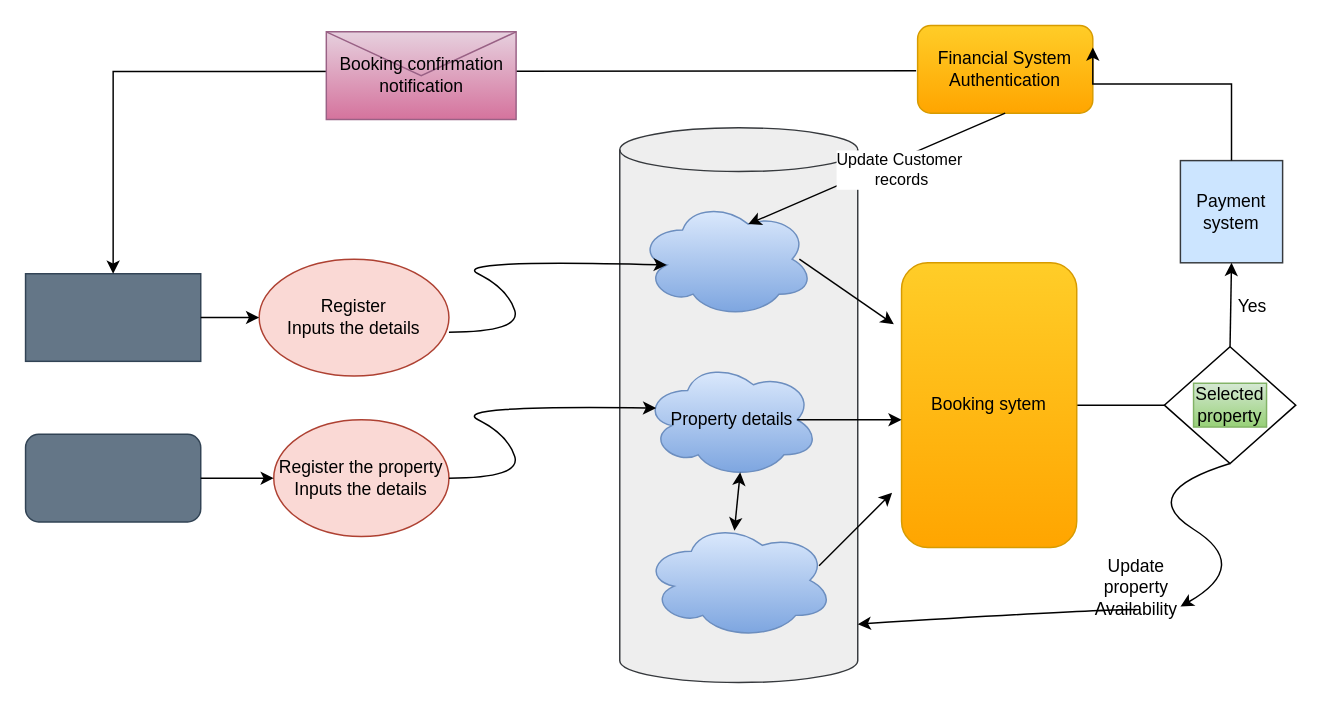
The diagram is 1321 pixels wide and 708 high, and some of its shapes have lost their labels. Each missing label, with the centre of its shape:
Property owner: the point at 112,477
Reviews: the point at 738,579
User Details: the point at 725,258
User/Customer: the point at 112,316
